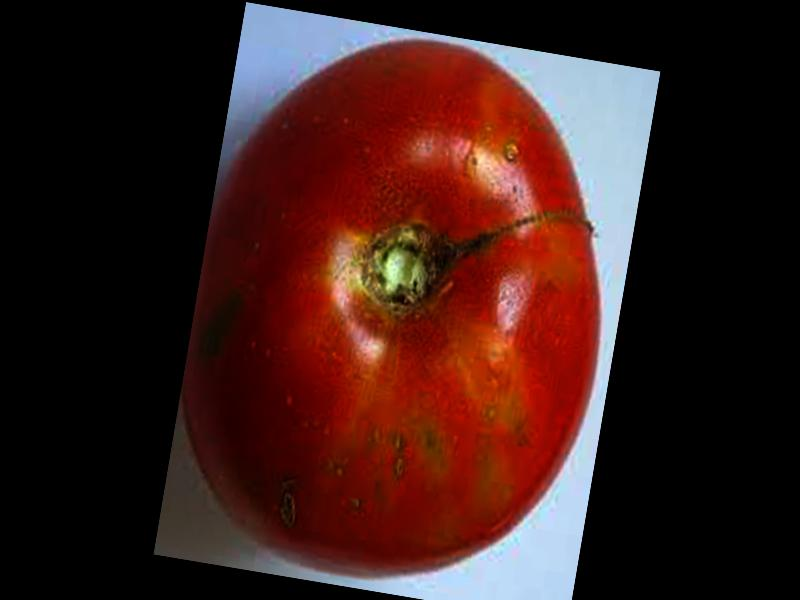Tomato: (157, 7, 644, 600)
